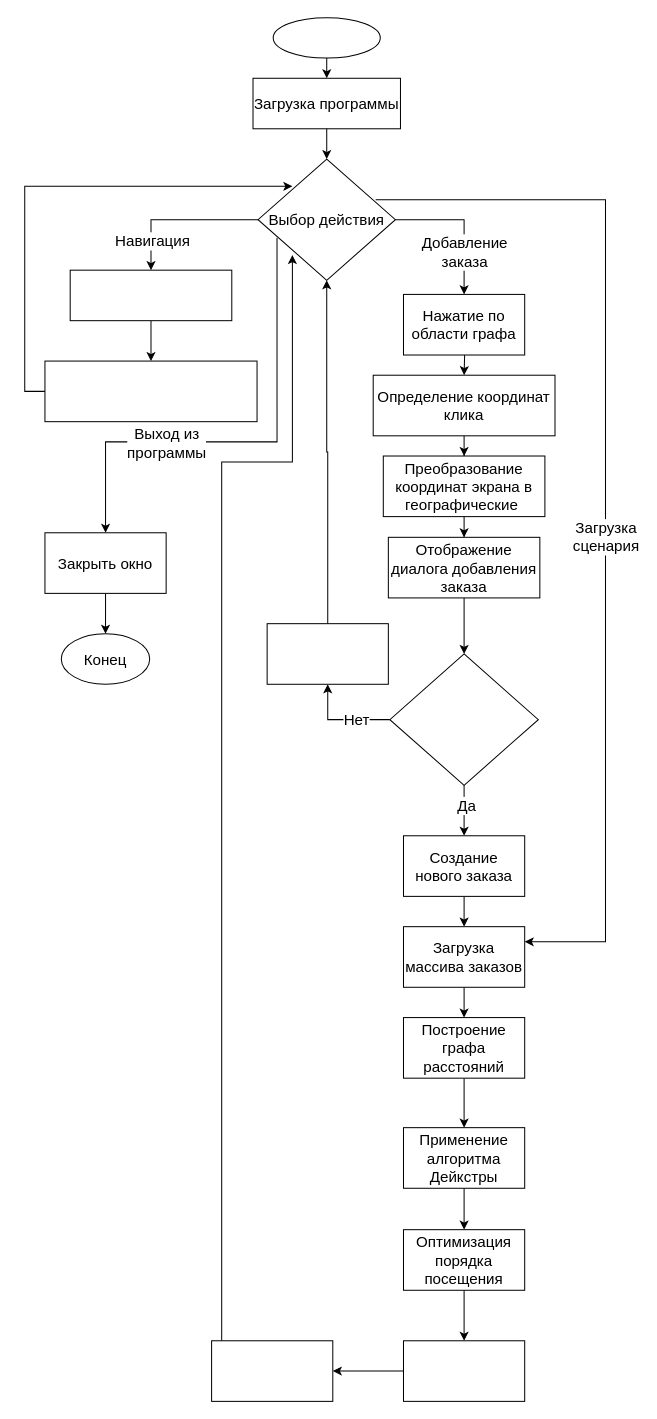
This 657x1419 diagram has some shape labels left out. The centre of each missing label's shape, as x and y in pixels:
Масштабирование/ перемещение: (x=150, y=295)
Начало: (x=326, y=37)
Обновление трансформаций масштаба/позиции: (x=150, y=391)
Отмена операции: (x=327, y=653)
Отображение графа и обновления UI: (x=272, y=1370)
Подтверждение добавления?: (x=463, y=719)
Построение итогового маршрута: (x=463, y=1370)
